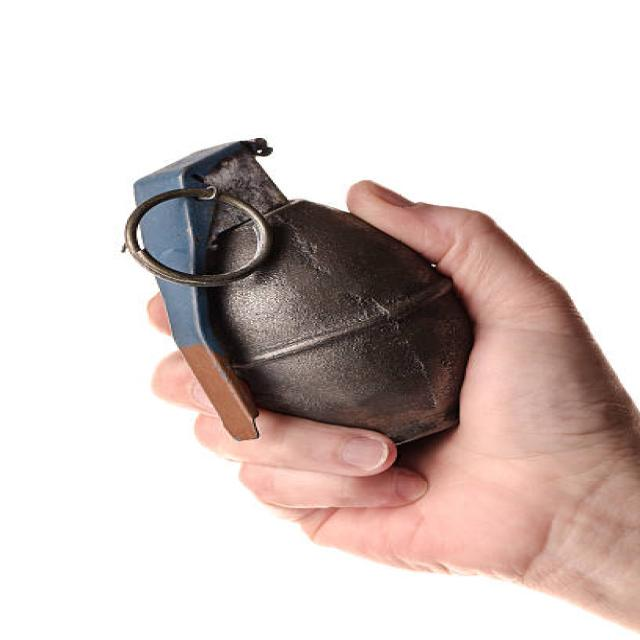grenade: (111, 128, 479, 448)
